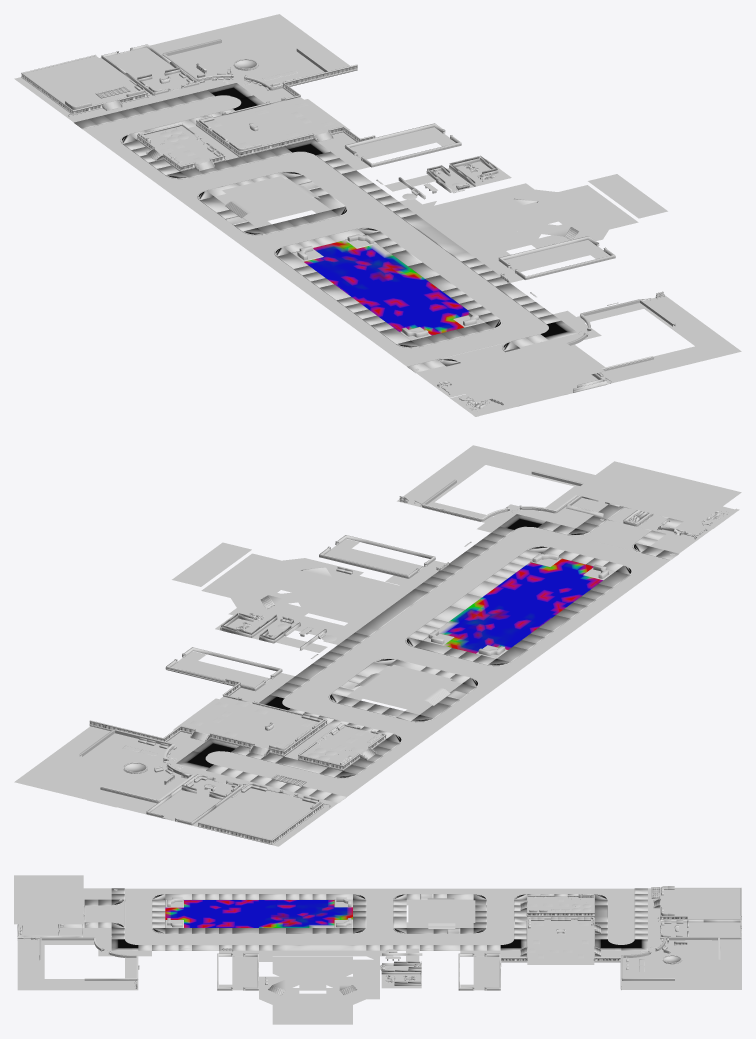
The model's file is lod_bundle3.fbx.
3 views of the same model, one above another, from view 1: azimuth 30°, elevation 25°; view 2: azimuth 150°, elevation 25°; view 3: azimuth 270°, elevation 25° (orthographic). The views are drawn at different scales.
Parts seen in each view (by area): view 1: Ground3_3_ground_X45; view 2: Ground3_3_ground_X45; view 3: Ground3_3_ground_X45.
Part boxes in pixels (<box>): Ground3_3_ground_X45: <box>14,14,741,416</box>; Ground3_3_ground_X45: <box>14,445,741,846</box>; Ground3_3_ground_X45: <box>14,875,741,1024</box>.
Bounding box in the file's own units: 6161 × 347 × 13895.
